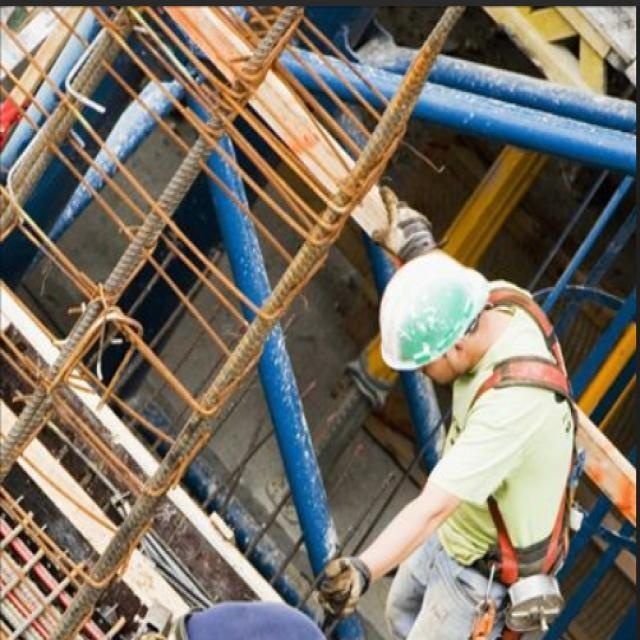Arnes_seguridad: (463, 281, 590, 583)
